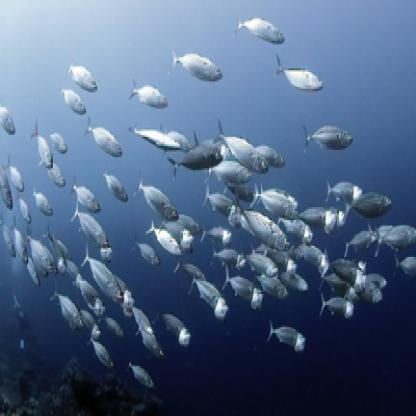Scombridae -Tunas-: (229, 193, 291, 251), (212, 117, 269, 175), (130, 166, 179, 225), (80, 243, 125, 306), (164, 42, 227, 84), (67, 197, 111, 251), (300, 116, 356, 156), (170, 144, 223, 183), (234, 10, 289, 47), (276, 51, 324, 93), (265, 314, 311, 354), (83, 116, 124, 160), (186, 273, 227, 317), (129, 77, 169, 116), (28, 116, 54, 173), (55, 73, 88, 116), (64, 60, 99, 92), (5, 155, 27, 194)
